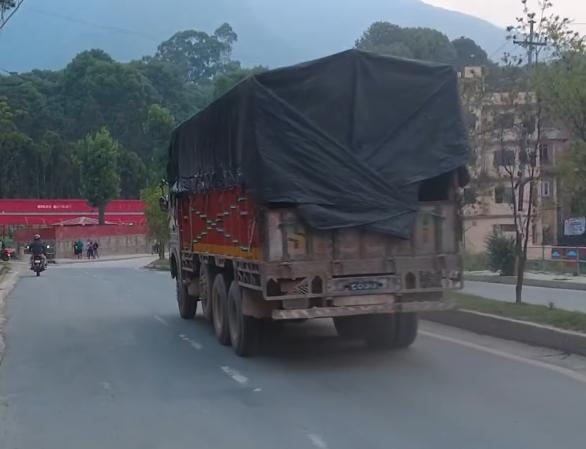bike: (28, 248, 47, 276)
truck: (158, 46, 471, 356)
